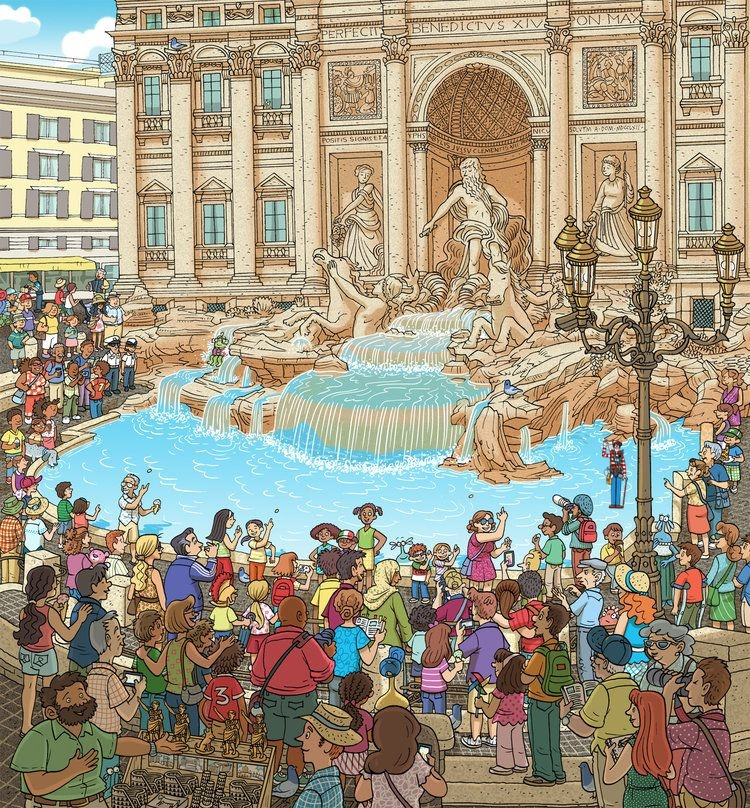waldo: (602, 439, 628, 509)
